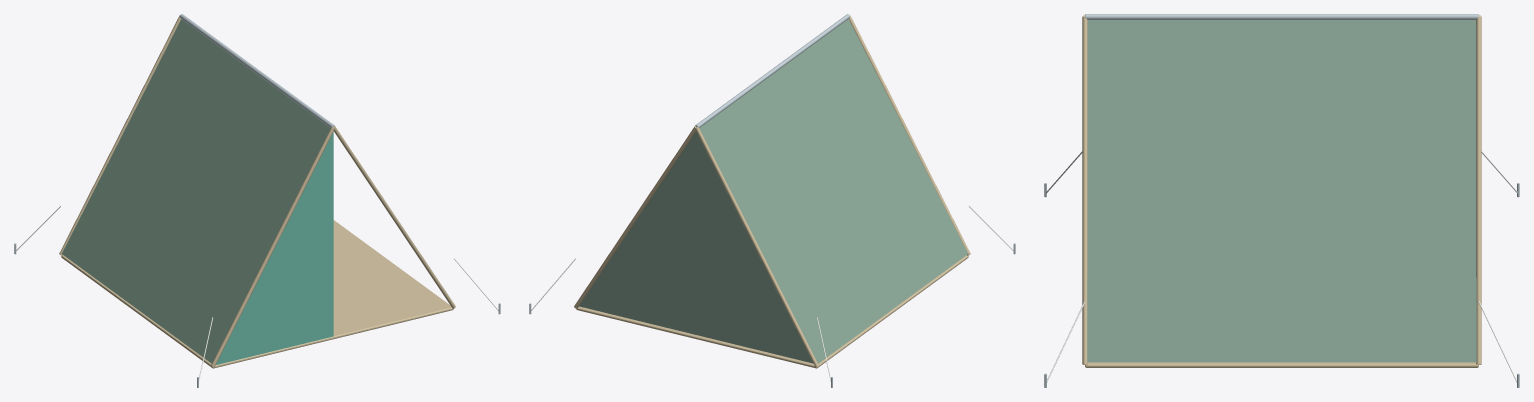
The model's file is field_tent.glb.
3 views of the same model, side by side, from view 1: azimuth 30°, elevation 25°; view 2: azimuth 150°, elevation 25°; view 3: azimuth 270°, elevation 25° (orthographic). The views are drawn at different scales.
Visible parts, largest first — view 1: Tent_Roof, Front_Fabric, Groundsheet, Frame_Left_2, Frame_Right_2, Ridge_Pole, Frame_Left; view 2: Tent_Roof, Groundsheet, Frame_Left, Frame_Right, Ridge_Pole, Frame_Left_2; view 3: Tent_Roof, Ridge_Pole, Groundsheet, Frame_Right, Frame_Right_2.
Boxes of the visible parts, x1,y1,x2,y2 form: Tent_Roof: [62, 19, 330, 363]; Front_Fabric: [216, 132, 333, 364]; Groundsheet: [61, 220, 453, 368]; Frame_Left_2: [211, 127, 334, 366]; Frame_Right_2: [333, 126, 455, 308]; Ridge_Pole: [179, 14, 334, 127]; Frame_Left: [59, 15, 180, 255]; Tent_Roof: [579, 19, 967, 363]; Groundsheet: [576, 255, 968, 368]; Frame_Left: [695, 127, 818, 366]; Frame_Right: [574, 126, 696, 308]; Ridge_Pole: [695, 14, 850, 127]; Frame_Left_2: [849, 15, 970, 255]; Tent_Roof: [1087, 20, 1476, 362]; Ridge_Pole: [1085, 14, 1478, 19]; Groundsheet: [1085, 362, 1478, 367]; Frame_Right: [1476, 16, 1481, 364]; Frame_Right_2: [1082, 16, 1087, 364].
Size of the model in its own units: 2.77 by 1.87 by 2.9.
